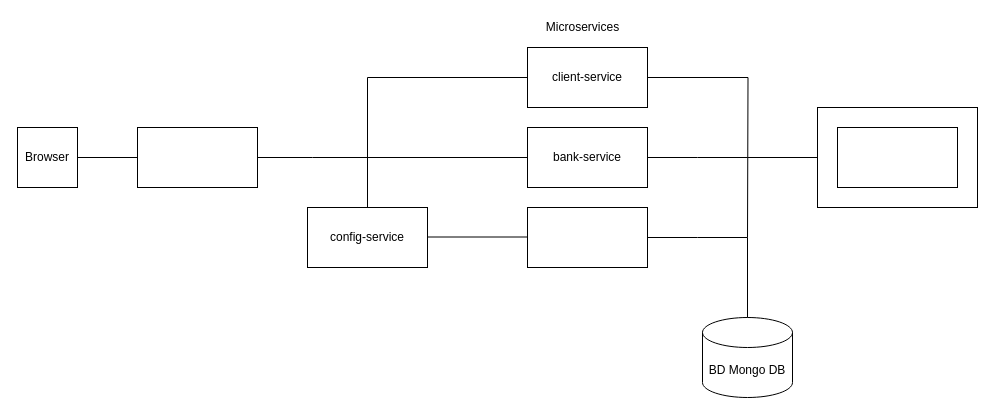
This 995x415 diagram has some shape labels left out. Here are the shapes that lost their labels. From the top down, the centre of each, then its label:
At (x=197, y=157): "Api-gateway".
At (x=897, y=157): "discovery-service Eureka".
At (x=587, y=237): "credit-service".
